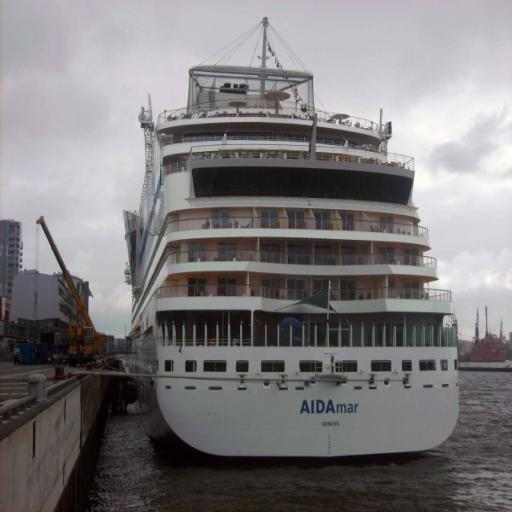cruises: (119, 17, 463, 466)
